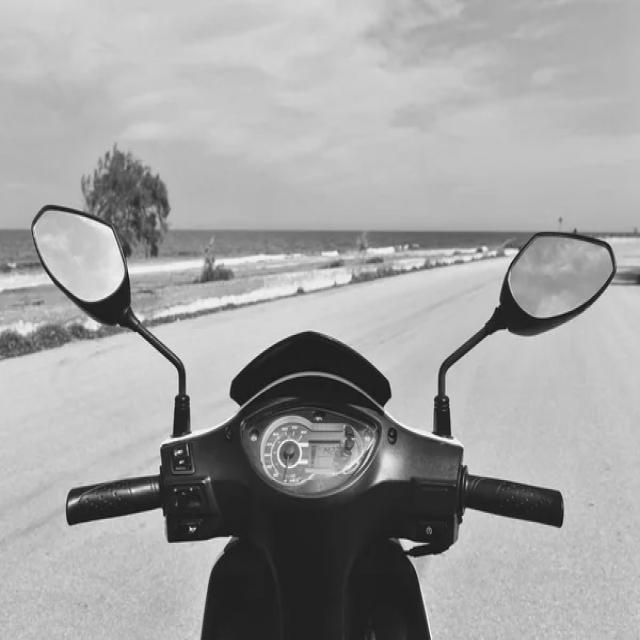Motorcycle: (34, 205, 615, 638)
